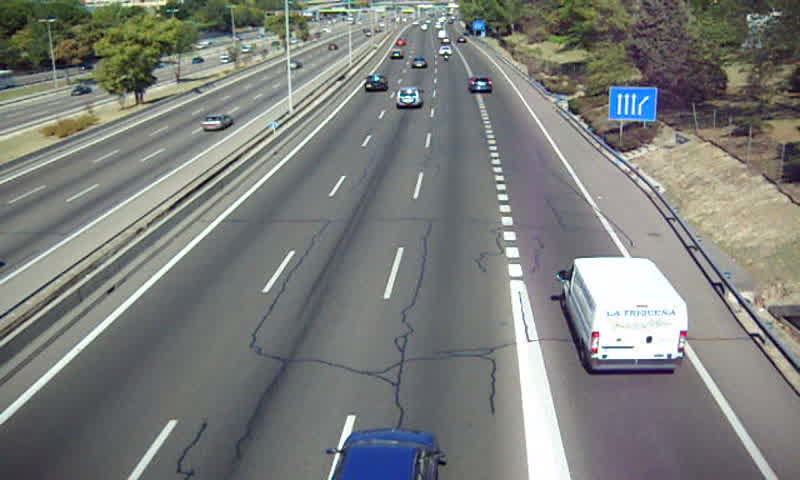car: (394, 88, 424, 110), (469, 77, 495, 95), (363, 75, 389, 93)
van: (556, 257, 690, 373)
